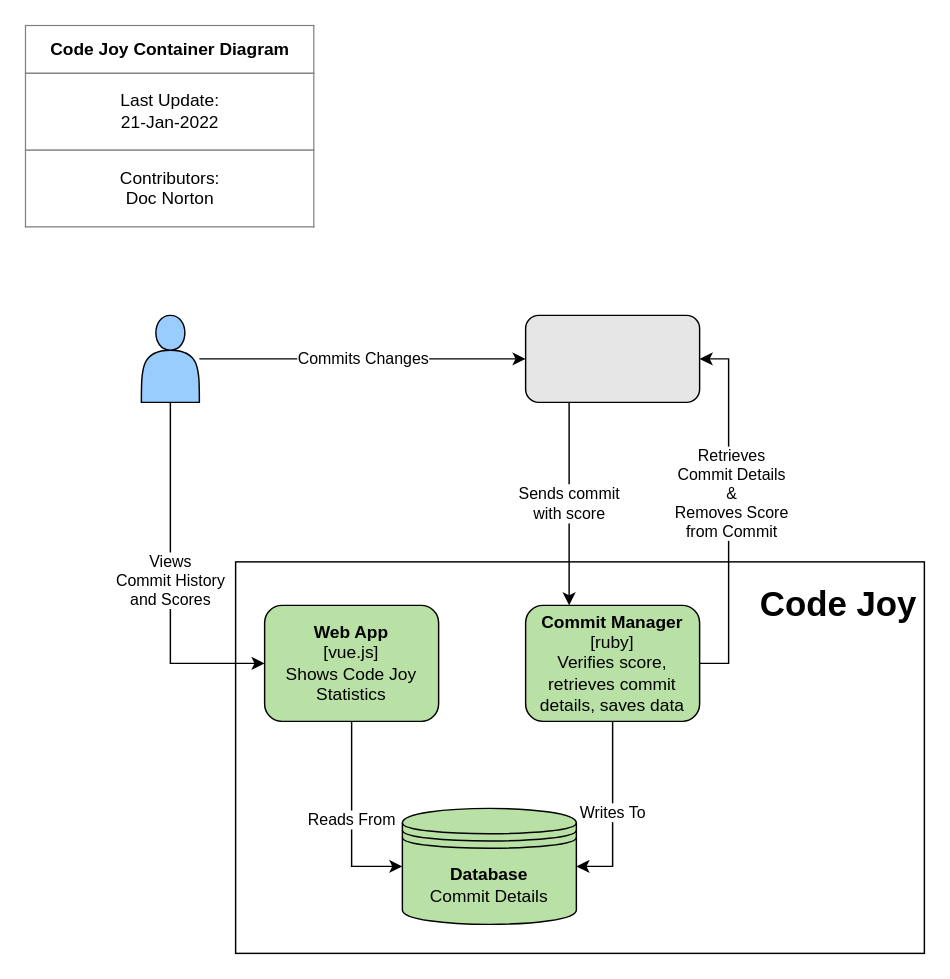
This 950x979 diagram has some shape labels left out. Each missing label, with the box of its shape:
Dev: (140, 314, 199, 402)
Version Control System: (524, 314, 700, 402)
